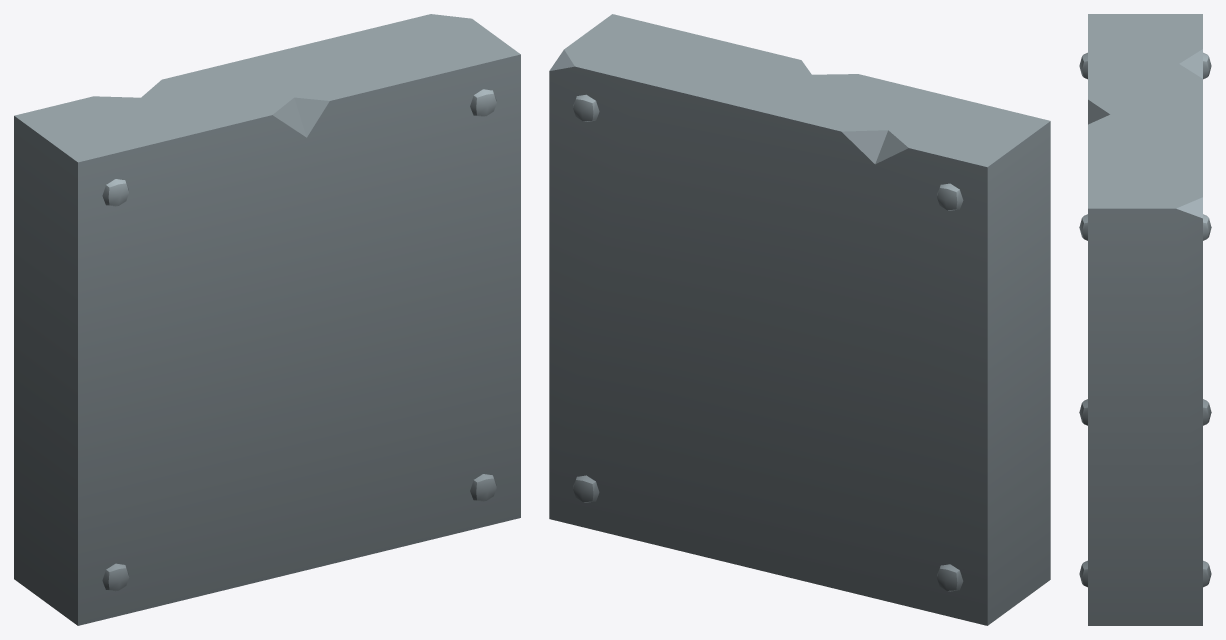
Rendered from wall_A.gltf.glb.
3 views of the same model, side by side, from view 1: azimuth 30°, elevation 25°; view 2: azimuth 150°, elevation 25°; view 3: azimuth 270°, elevation 25° (orthographic). The views are drawn at different scales.
Visible parts, largest first — view 1: wall_A; view 2: wall_A; view 3: wall_A.
Boxes of the visible parts, x1,y1,x2,y2 form: wall_A: (14, 14, 520, 625); wall_A: (549, 14, 1050, 625); wall_A: (1079, 14, 1211, 625).
Bounding box in the file's own units: 2 × 2 × 0.5744.
1 material, 1 textured.
